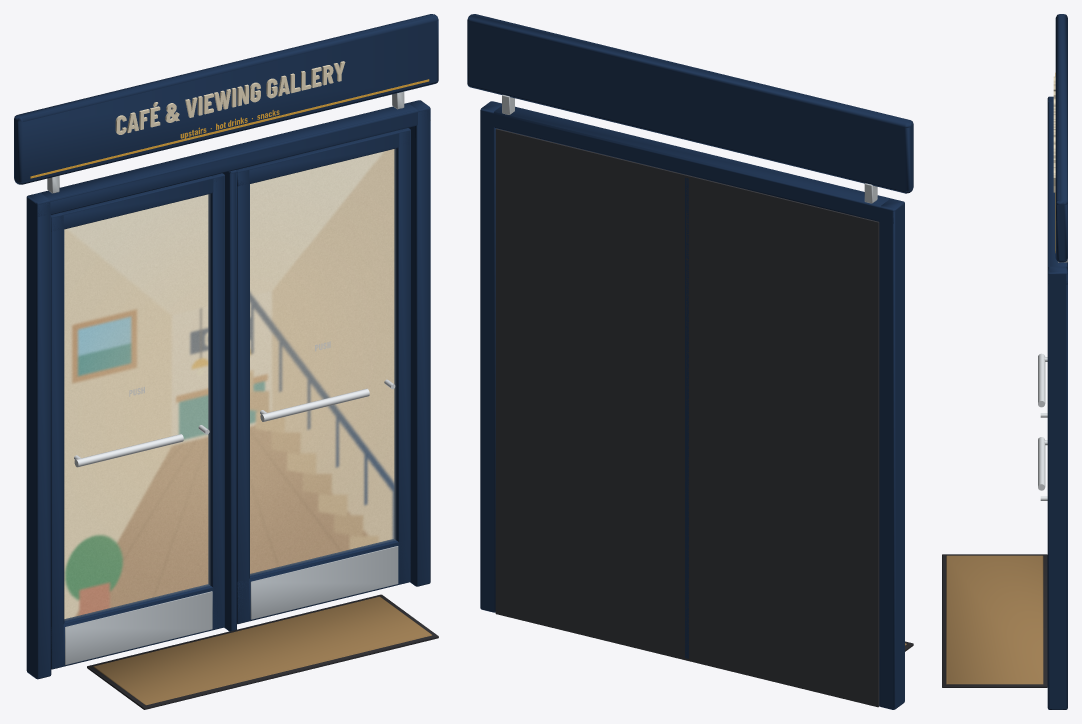
The model's file is cafe_doors.glb.
3 views of the same model, side by side, from view 1: azimuth 30°, elevation 25°; view 2: azimuth 150°, elevation 25°; view 3: azimuth 270°, elevation 25° (orthographic). The views are drawn at different scales.
Visible parts, largest first — view 1: CafeDoorsBody, Glass_Cafe0, Glass_Cafe1; view 2: CafeDoorsBody; view 3: CafeDoorsBody.
Boxes of the visible parts, <box> form: CafeDoorsBody: <box>14,14,438,709</box>; Glass_Cafe0: <box>64,194,209,620</box>; Glass_Cafe1: <box>250,149,395,575</box>; CafeDoorsBody: <box>467,14,913,709</box>; CafeDoorsBody: <box>942,14,1067,709</box>.
Size of the model in its own units: 2.2 by 2.8 by 0.62.
12 materials, 1 textured.
